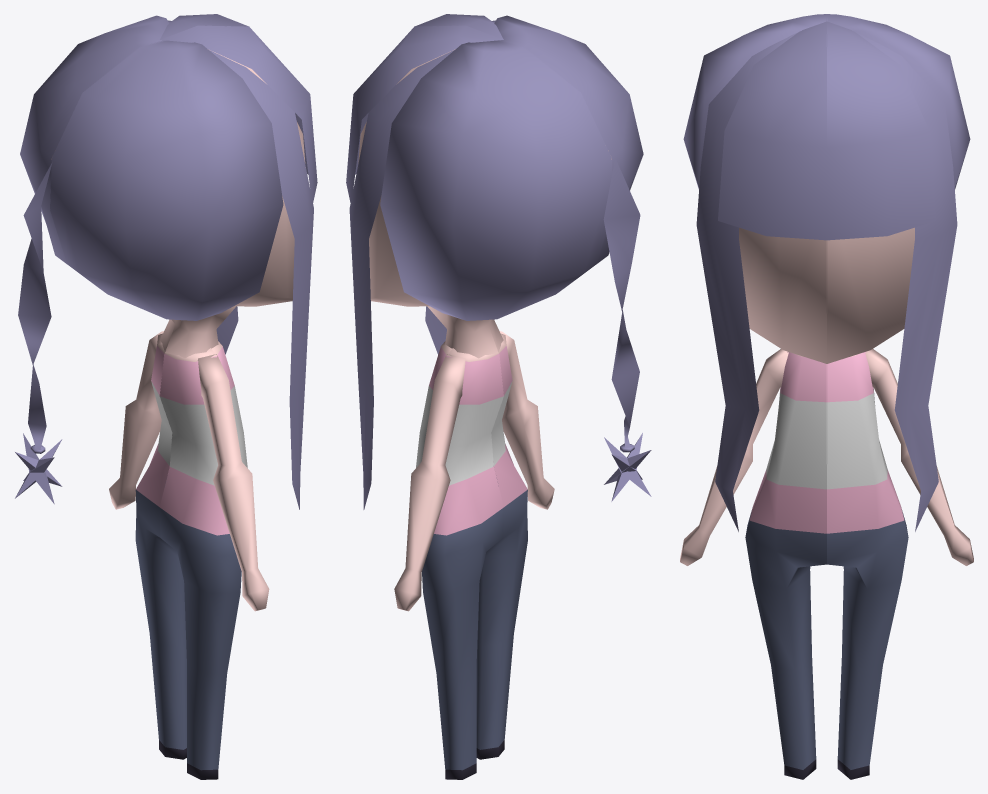
File: chara.dae
The picture shows the model from 3 angles, left to right: view 1: azimuth 30°, elevation 25°; view 2: azimuth 150°, elevation 25°; view 3: azimuth 270°, elevation 25°; orthographic projection.
Visible parts, largest first — view 1: Plane.002, Cube.002, Plane.004, Plane.001, Plane, Plane.003, Cube.001; view 2: Plane.002, Cube.002, Plane.004, Plane.001, Plane.003, Plane, Cube.001; view 3: Cube.002, Plane, Plane.001, Cube.001, Plane.002, Plane.004.
Boxes of the visible parts, x1,y1,x2,y2 form: Plane.002: [20, 15, 283, 320]; Cube.002: [135, 333, 247, 779]; Plane.004: [109, 331, 269, 611]; Plane.001: [167, 20, 313, 509]; Plane: [160, 14, 317, 205]; Plane.003: [15, 162, 62, 504]; Cube.001: [51, 50, 305, 358]; Plane.002: [380, 15, 643, 320]; Cube.002: [416, 333, 527, 779]; Plane.004: [394, 331, 554, 611]; Plane.001: [349, 20, 495, 509]; Plane.003: [603, 158, 651, 501]; Plane: [346, 14, 503, 205]; Cube.001: [358, 49, 611, 358]; Cube.002: [745, 352, 908, 779]; Plane: [718, 21, 935, 240]; Plane.001: [696, 33, 957, 531]; Cube.001: [739, 227, 914, 363]; Plane.002: [683, 14, 970, 188]; Plane.004: [680, 349, 973, 565].
Size of the model in its own units: 0.7618 by 0.6917 by 1.93.
